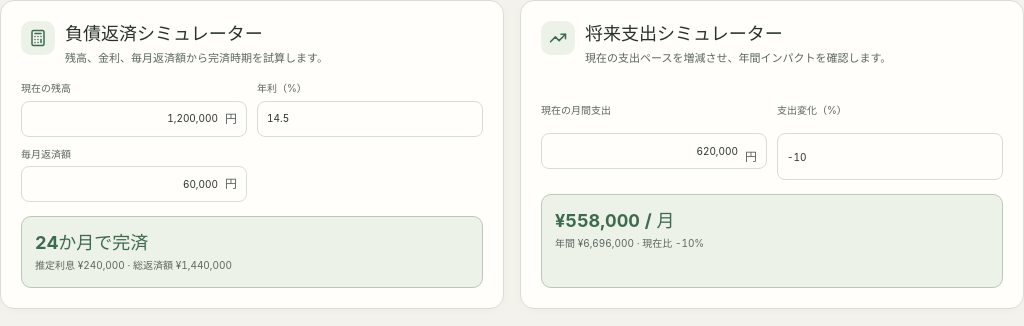
it: PlanningTools yen fields › shows readable thousands separators and recomputes from typed whole yen
The width and height of the screenshot is (1024, 326).
Expected: the field labelled "現在の残高" holds "1,200,000", [21, 101, 247, 137]
Replace the text in the field labelled "現在の月間支出" with "500000" at (654, 151), box [541, 133, 767, 169]
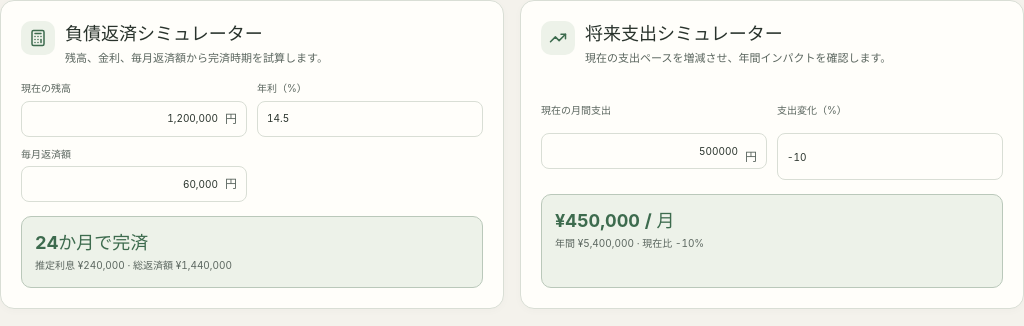
Leave the field labelled "現在の月間支出", box [541, 133, 767, 169]
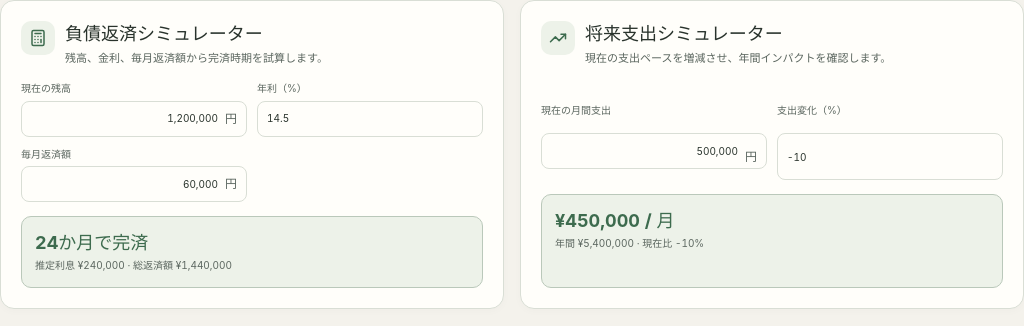
Now the text "¥450,000 / 月" is shown, box [555, 210, 675, 231]
Now the field labelled "現在の月間支出" holds "500,000", box [541, 133, 767, 169]
